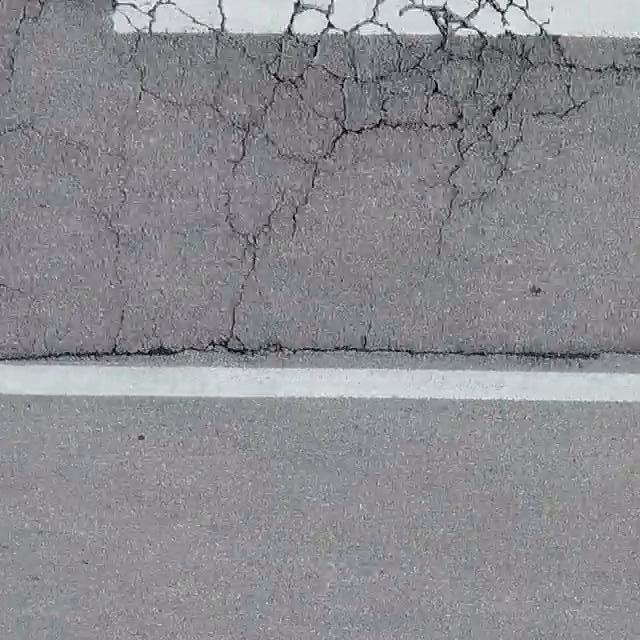GRIETA: (3, 339, 639, 363), (227, 257, 256, 343), (113, 232, 126, 345), (438, 210, 451, 255)
PIEL DE COCODRILO: (0, 0, 638, 264)
